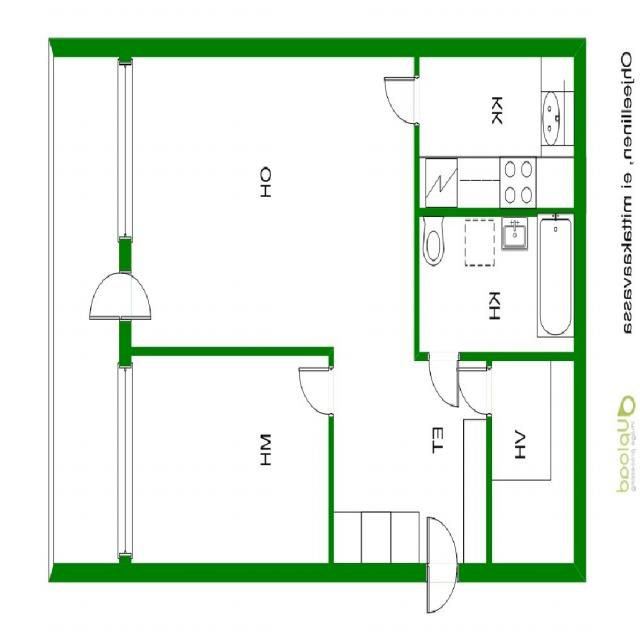door: (91, 272, 131, 316), (119, 272, 159, 316), (429, 563, 457, 625), (429, 520, 457, 582), (300, 368, 334, 414), (458, 369, 492, 414), (429, 352, 458, 404), (386, 79, 420, 122)
